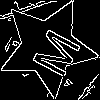M: (22, 22, 82, 80)
